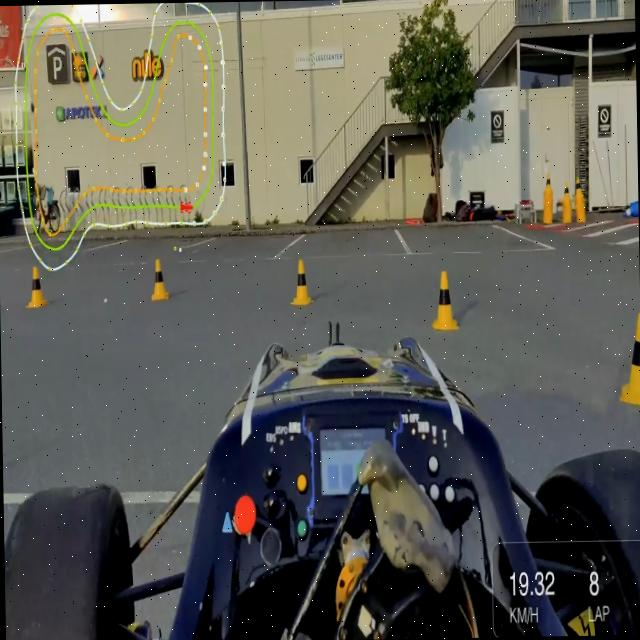yellow_cone: (617, 293, 640, 413), (430, 267, 460, 332), (290, 256, 315, 308), (24, 265, 48, 311), (150, 256, 170, 304), (574, 177, 585, 202), (542, 172, 552, 192), (562, 180, 570, 202)
